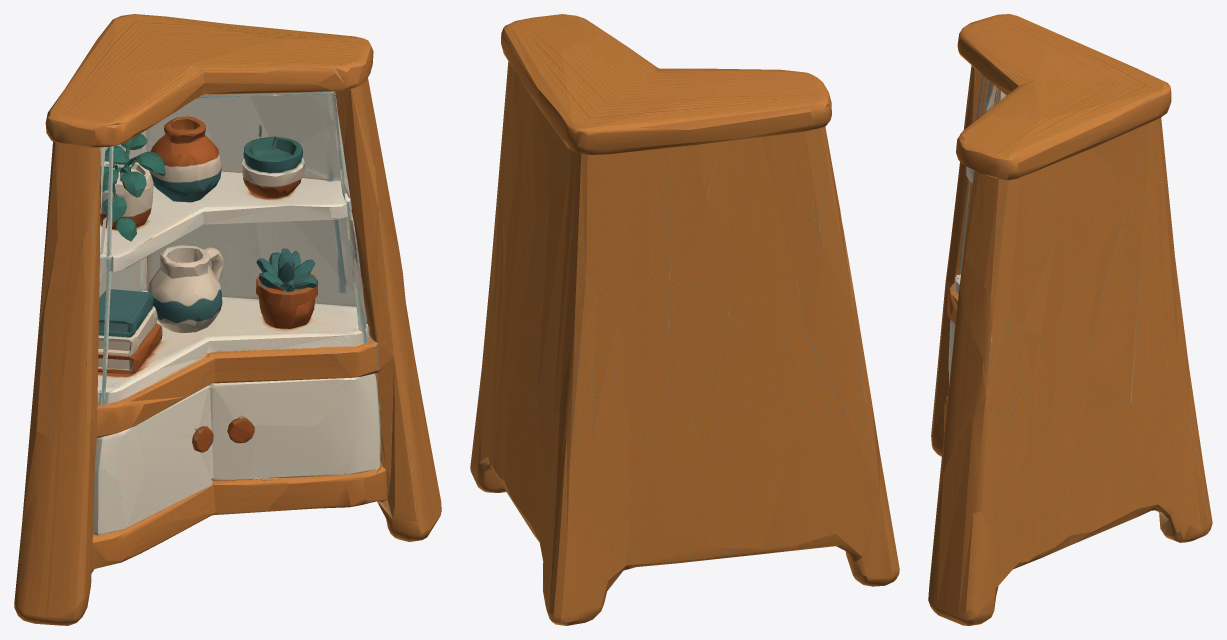
File: cornerCabinet.glb
The picture shows the model from 3 angles, left to right: view 1: azimuth 30°, elevation 25°; view 2: azimuth 150°, elevation 25°; view 3: azimuth 270°, elevation 25°; orthographic projection. The views are drawn at different scales.
Visible parts, largest first — view 1: Mesh_0; view 2: Mesh_0; view 3: Mesh_0.
Part boxes in pixels (x1,y1,x2,y2): Mesh_0: (14, 14, 441, 625); Mesh_0: (470, 14, 899, 625); Mesh_0: (928, 14, 1212, 625).
Size of the model in its own units: 0.9105 by 1 by 0.5668.
Materials: 1 (1 with a texture image).
